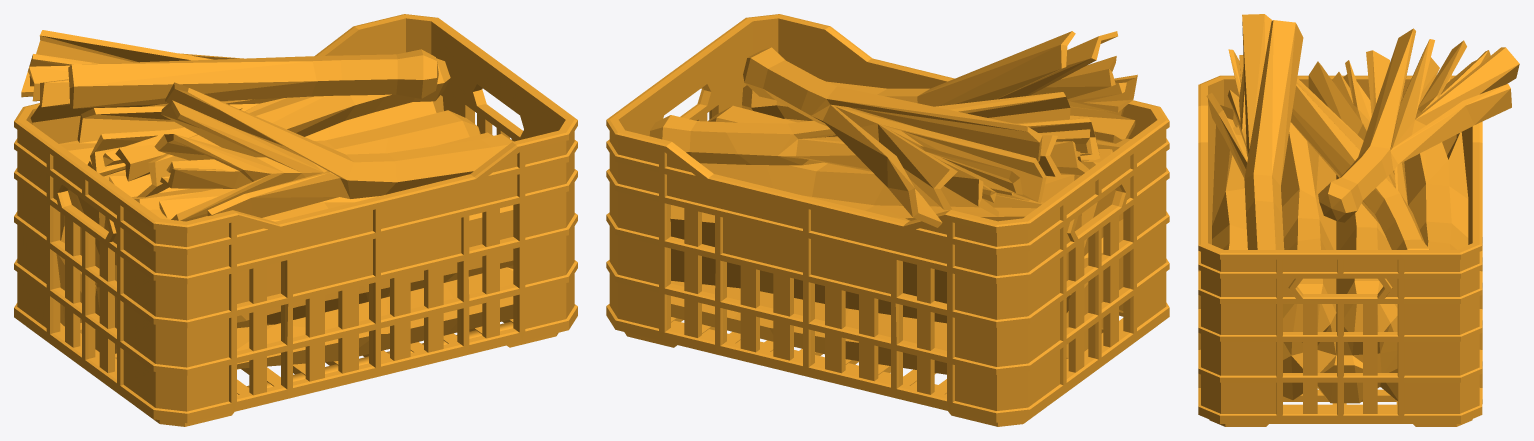
Rendered from SM_Crate_Plastic_Medium_Leek_A.fbx.
The picture shows the model from 3 angles, left to right: view 1: azimuth 30°, elevation 25°; view 2: azimuth 150°, elevation 25°; view 3: azimuth 270°, elevation 25°; orthographic projection. The views are drawn at different scales.
Parts seen in each view (by area): view 1: crate-plastic-medium-leek-a; view 2: crate-plastic-medium-leek-a; view 3: crate-plastic-medium-leek-a.
Part boxes in pixels (<box>): crate-plastic-medium-leek-a: <box>14,14,577,426</box>; crate-plastic-medium-leek-a: <box>606,14,1169,426</box>; crate-plastic-medium-leek-a: <box>1198,14,1519,426</box>.
Bounding box in the file's own units: 0.6083 × 0.4132 × 0.4616.
